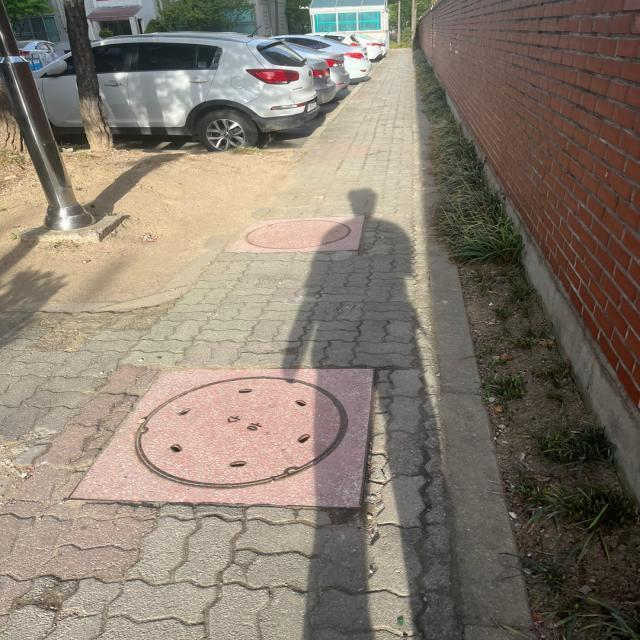manhole: (71, 369, 374, 508)
